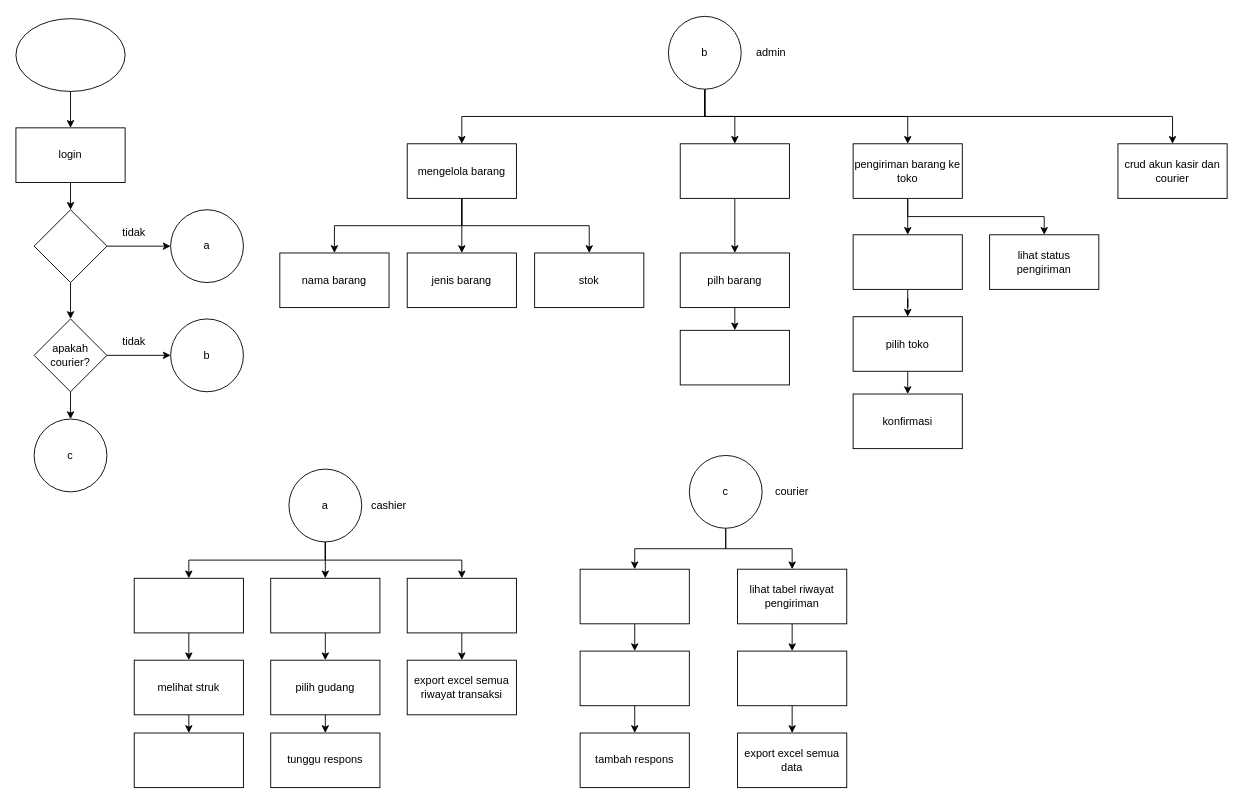
Some shapes in this 1243 by 804 pixel diagram are drawn without their labels. Here are the shapes that lost their labels. From the top down, the centre of each, then its label:
point 70,54: start
point 734,170: permintaan barang ke distributor
point 70,246: apakah admin?
point 907,261: kelola barang
point 734,357: respons
point 188,605: mengelola transaksi barang
point 325,605: permintaan pengiriman stok
point 461,605: melihat riwayat transaksi
point 634,596: kelola pengiriman
point 634,678: tambah status
point 792,678: export pdf salah satu pengiriman
point 188,760: cetak struk
